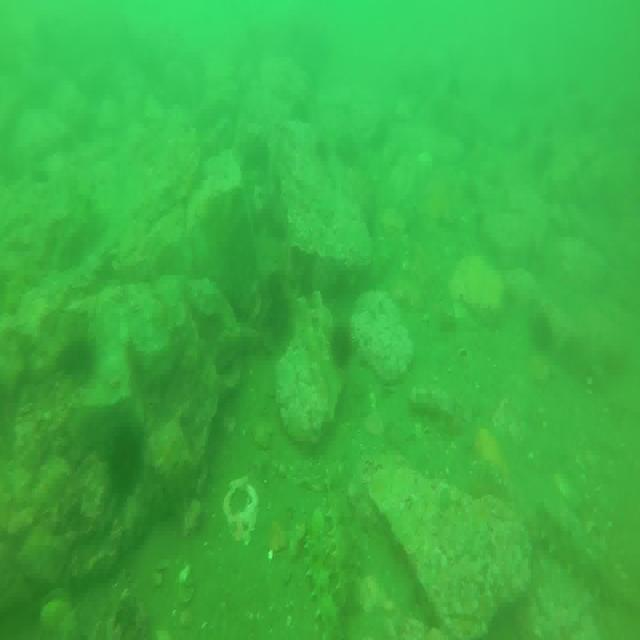echinus: (110, 429, 149, 492), (67, 339, 95, 389), (331, 322, 360, 370), (267, 294, 292, 340), (534, 308, 554, 352)
holothurian: (533, 494, 620, 604), (303, 505, 340, 640), (328, 482, 365, 608)
